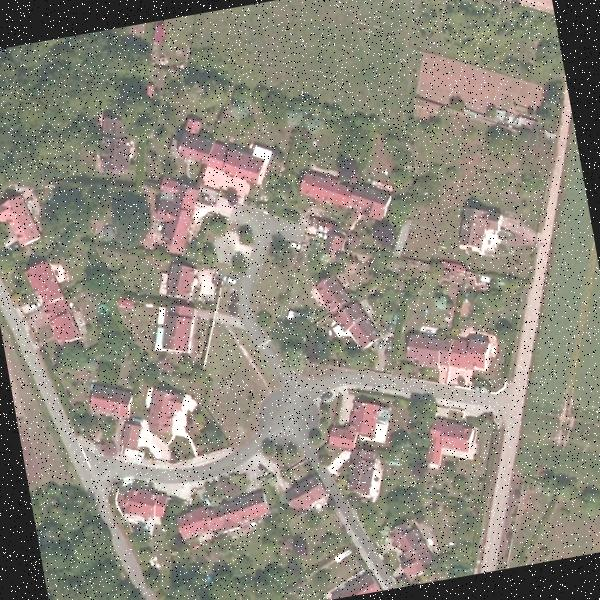Buildings: (295, 156, 393, 232), (174, 115, 270, 186), (316, 274, 383, 355), (404, 318, 494, 378), (29, 262, 80, 344), (324, 394, 390, 456), (148, 188, 202, 258), (179, 494, 268, 534), (388, 516, 438, 583), (422, 414, 482, 469), (455, 199, 508, 250), (159, 300, 205, 358), (0, 196, 45, 252), (144, 387, 192, 438), (92, 118, 136, 172), (120, 478, 164, 525), (325, 570, 386, 600), (284, 470, 326, 512), (88, 382, 130, 420), (163, 260, 198, 298), (350, 459, 379, 494), (121, 424, 139, 443)
